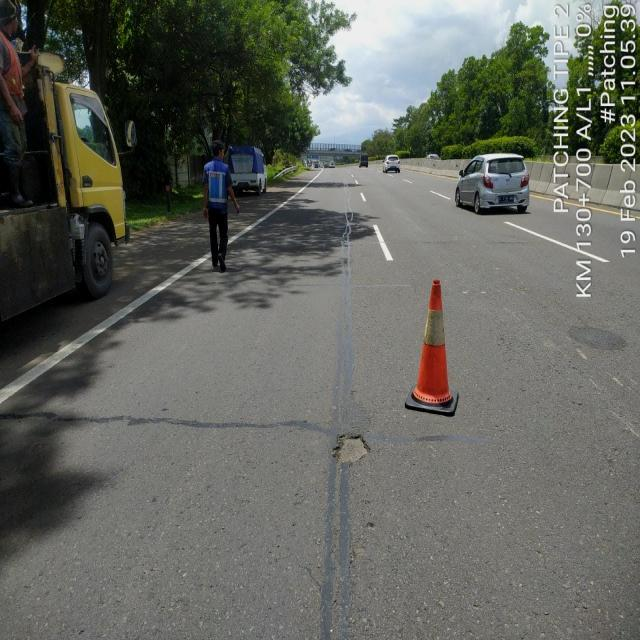Buraco: (329, 431, 374, 466)
